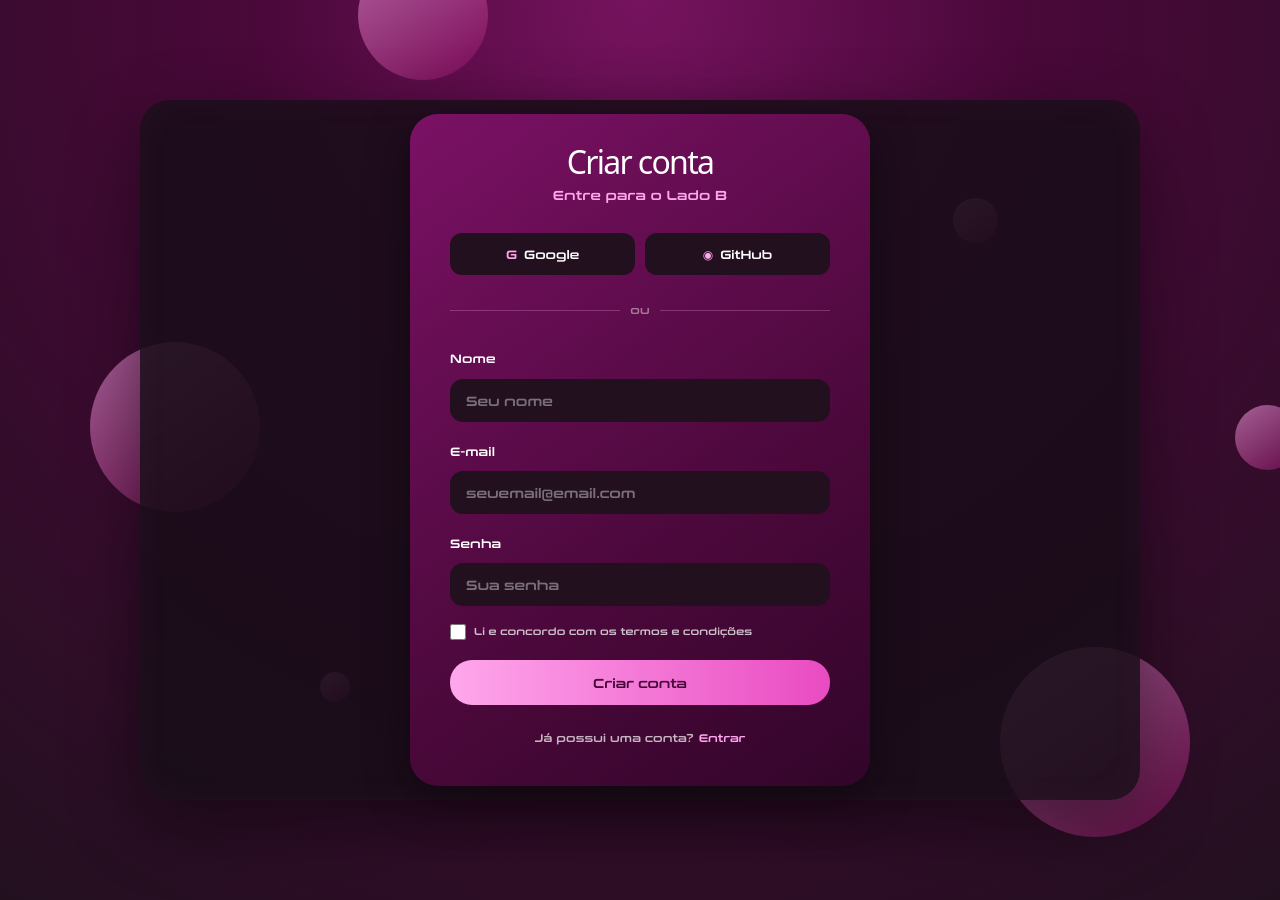
Cadastro › sem sessão (confirmação de e-mail ativa) avisa e leva ao login
In the field with placeholder "Seu nome": (640, 400) [450, 378, 830, 422], type "Maria"
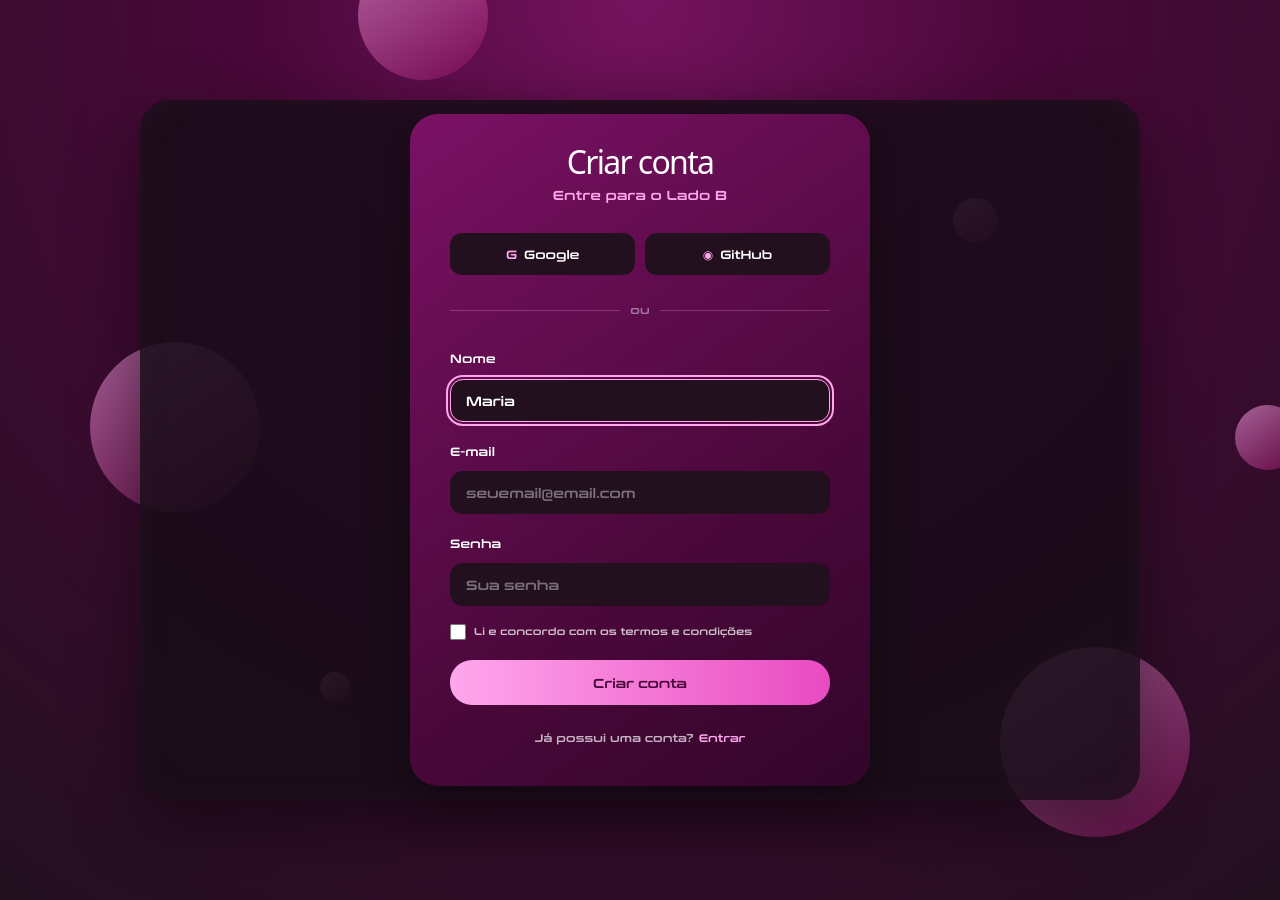
In the field with placeholder "seuemail@email.com": (640, 492) [450, 471, 830, 514], type "maria@x.com"
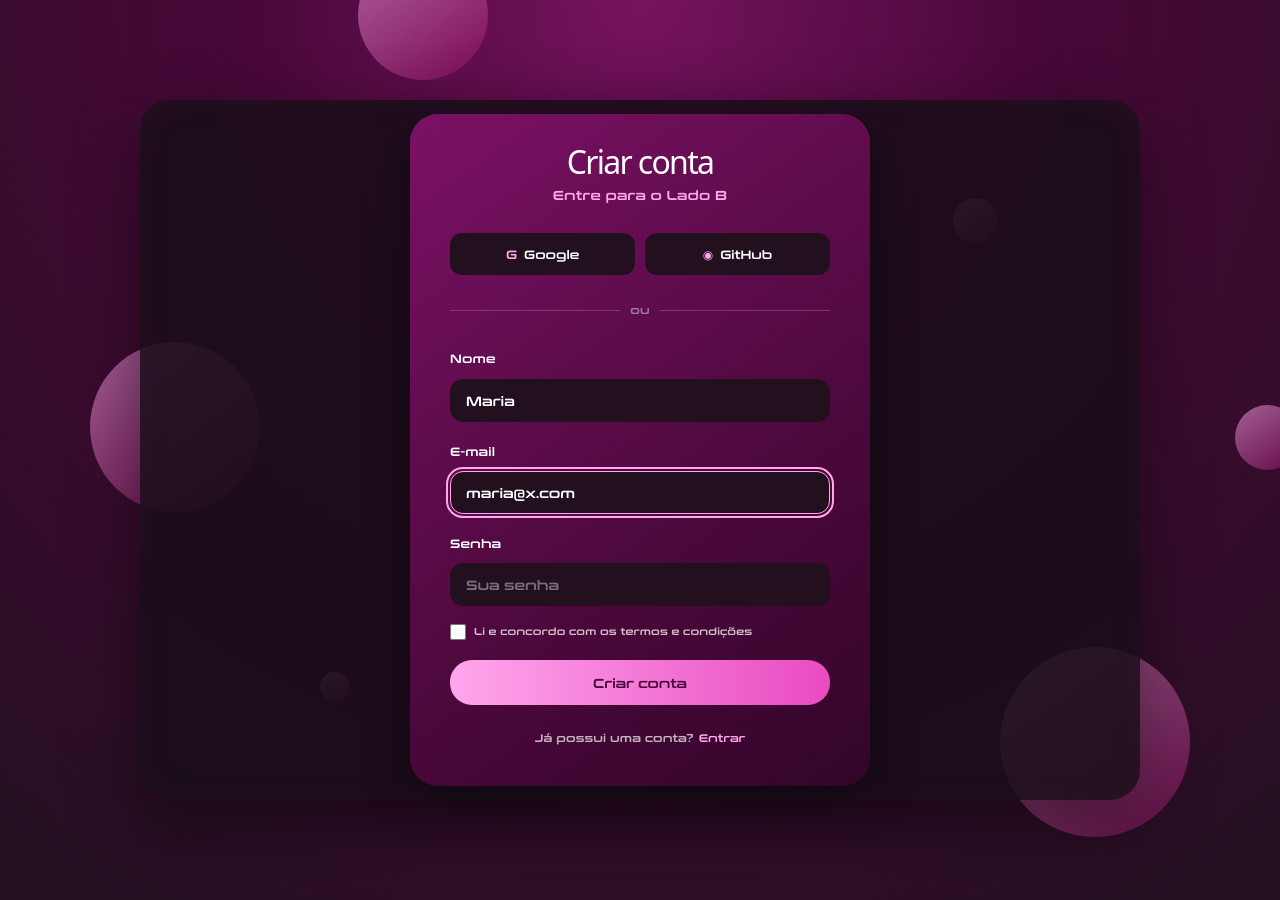
In the password field with placeholder "Sua senha": (640, 584) [450, 563, 830, 606], type "123456"
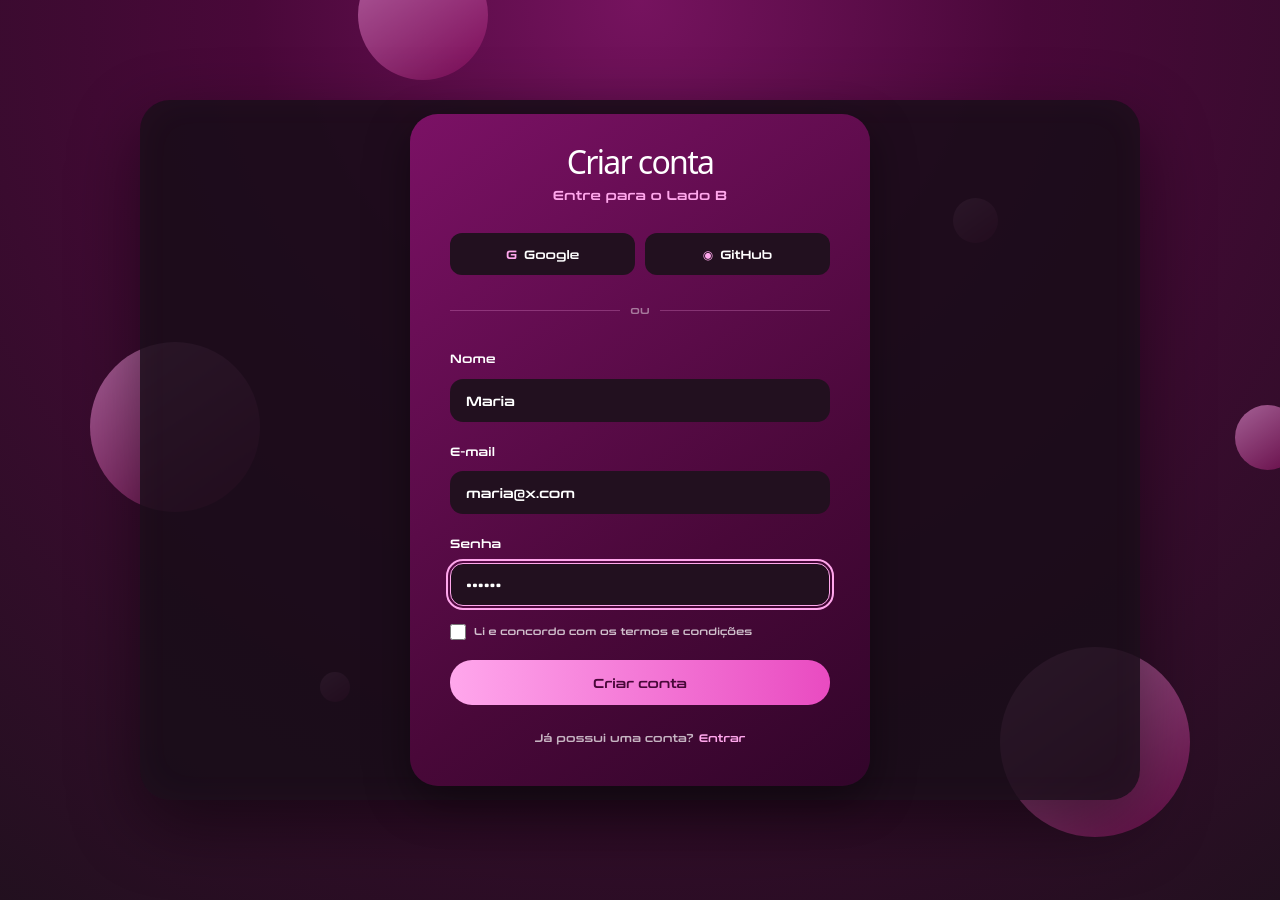
Click the checkbox: (458, 632) [450, 624, 466, 640]
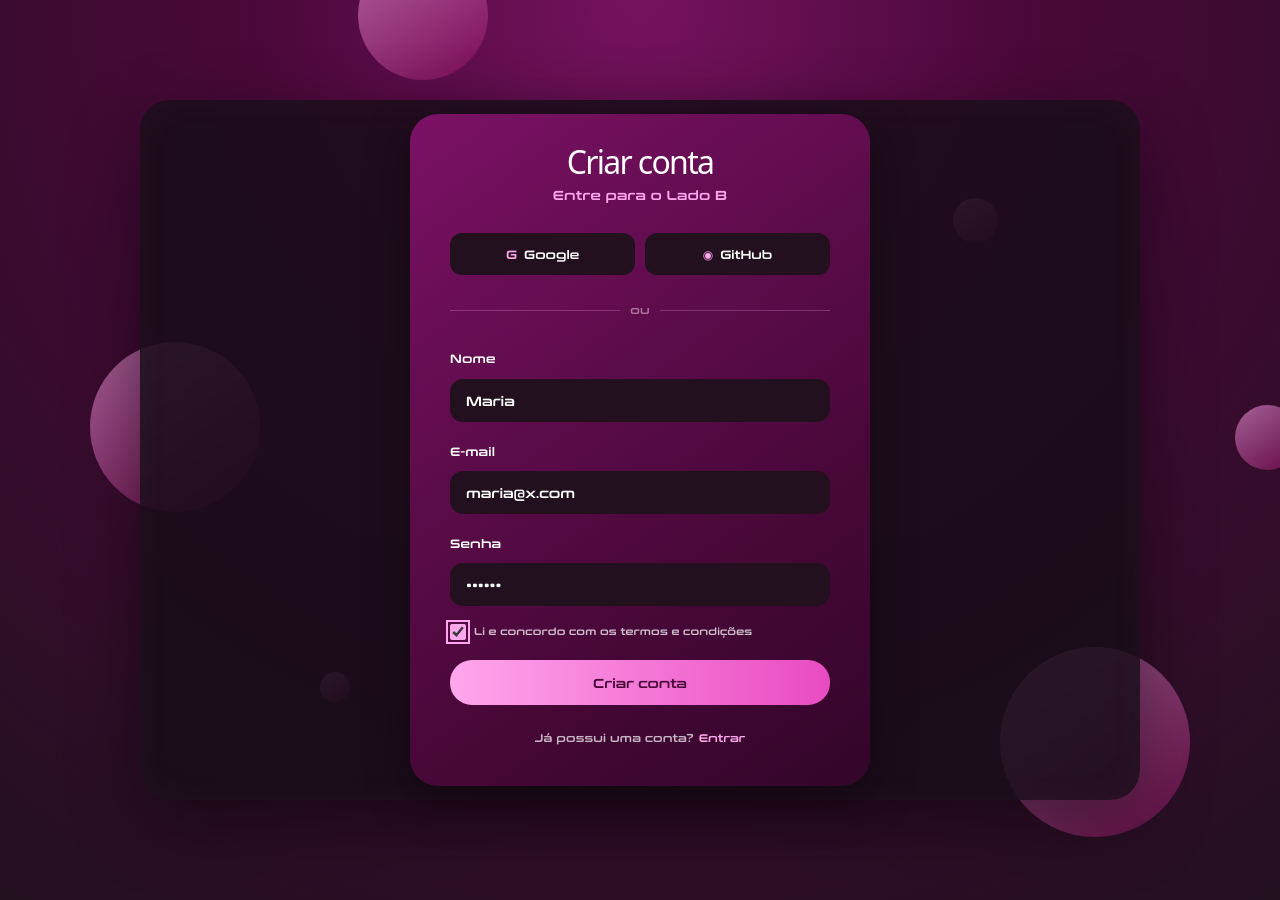
Click the button "Criar conta": (640, 682) [450, 660, 830, 705]
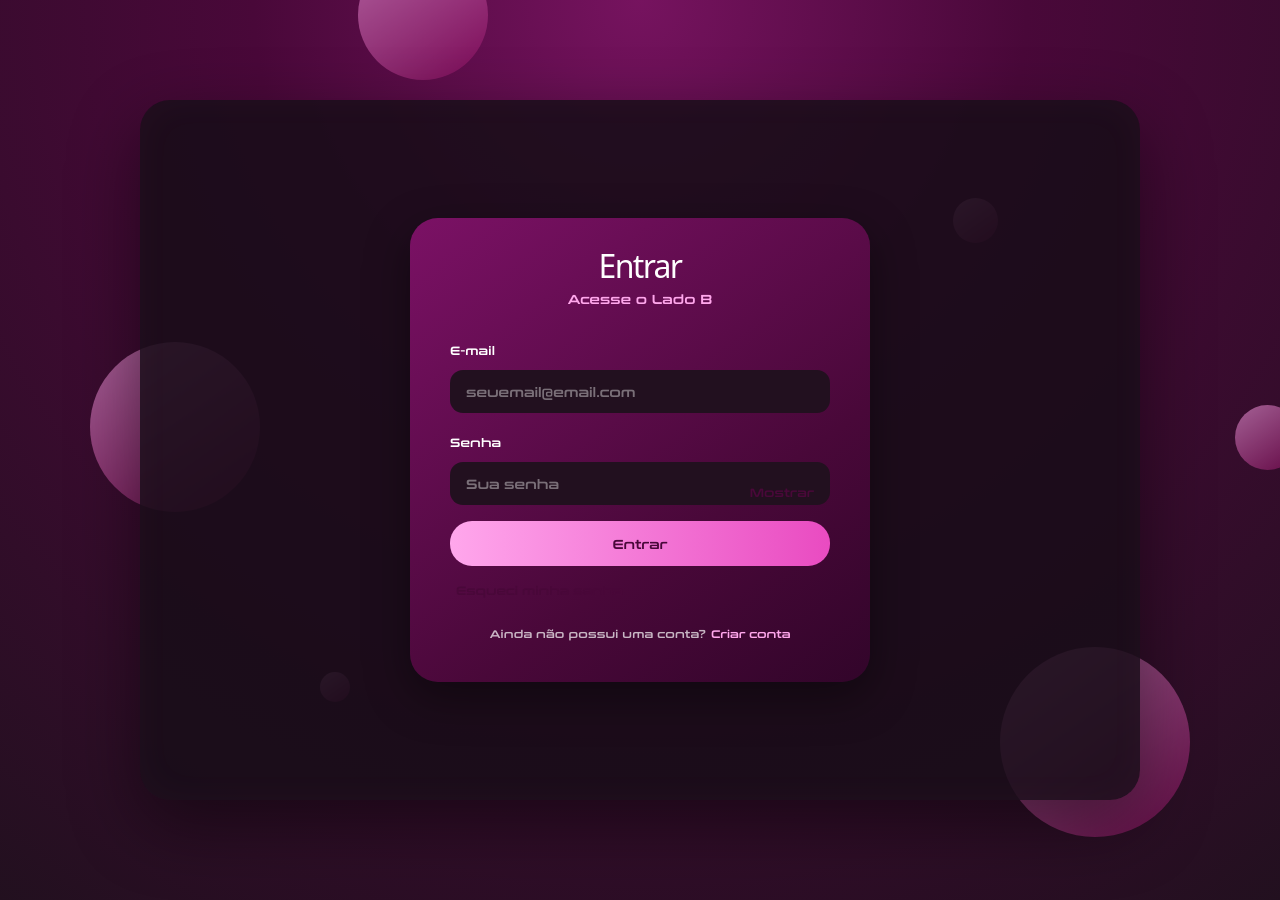
Now the heading "Entrar" is shown, box [599, 244, 681, 287]
